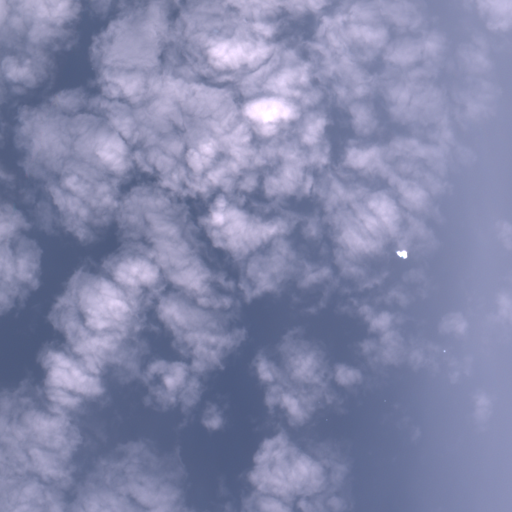Iceberg: (396, 250, 407, 258), (443, 350, 445, 351)
